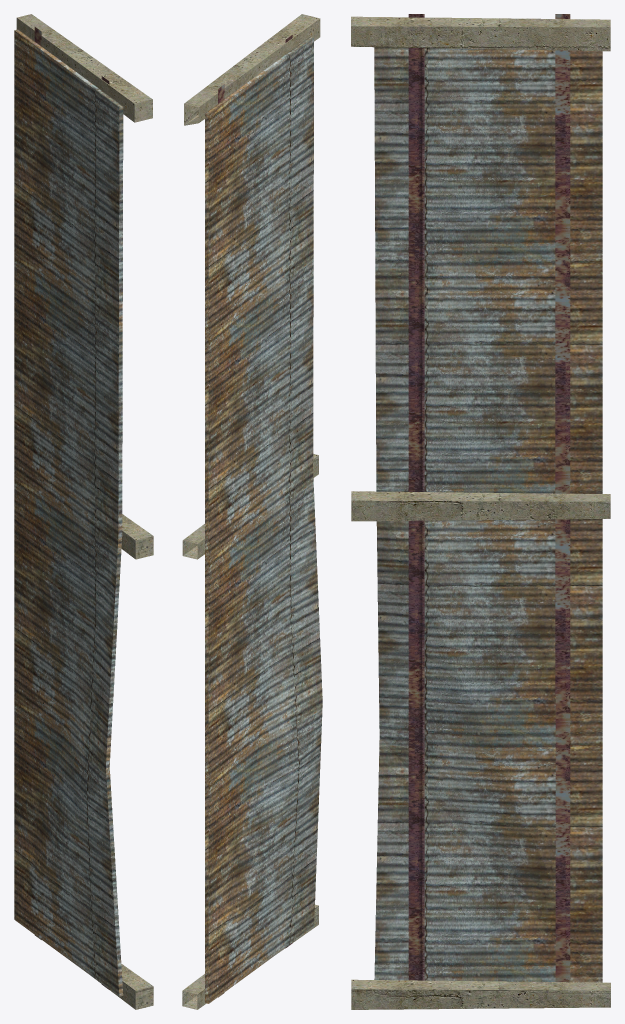
File: zaun_blech_kurz.obj
3 views of the same model, side by side, from view 1: azimuth 30°, elevation 25°; view 2: azimuth 150°, elevation 25°; view 3: azimuth 270°, elevation 25° (orthographic). The views are drawn at different scales.
Visible parts, largest first — view 1: Object072; view 2: Object072; view 3: Object072.
Part boxes in pixels (x1,y1,x2,y2): Object072: (14,14,153,1009); Object072: (182,14,322,1009); Object072: (351,14,610,1009).
Size of the model in its own units: 0.6095 by 15.21 by 3.63.
Materials: 3 (3 with a texture image).
